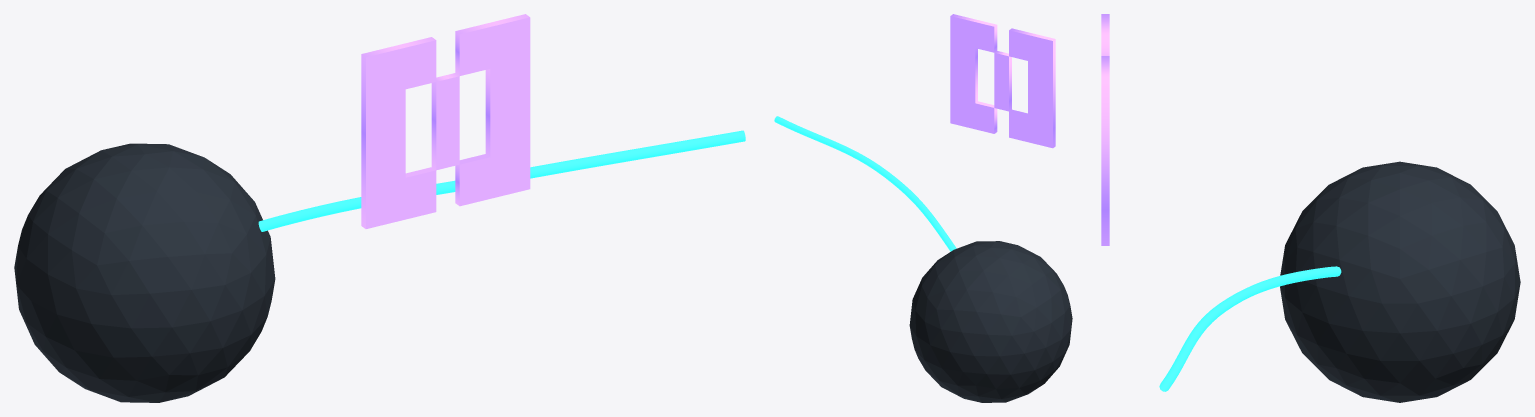
Rendered from NEXLABS_CP06_LOW_v001.glb.
The picture shows the model from 3 angles, left to right: view 1: azimuth 30°, elevation 25°; view 2: azimuth 150°, elevation 25°; view 3: azimuth 270°, elevation 25°; orthographic projection. The views are drawn at different scales.
Visible parts, largest first — view 1: NL_CORE_Context_A_LOW, NL_LOGO_NX_C_02_R1_LOW, NL_ROUTE_Primary_01_LOW; view 2: NL_CORE_Context_A_LOW, NL_LOGO_NX_C_02_R1_LOW, NL_ROUTE_Primary_01_LOW; view 3: NL_CORE_Context_A_LOW, NL_ROUTE_Primary_01_LOW, NL_LOGO_NX_C_02_R1_LOW.
Part boxes in pixels (x1,y1,x2,y2): NL_CORE_Context_A_LOW: [14, 143, 275, 402]; NL_LOGO_NX_C_02_R1_LOW: [361, 14, 530, 228]; NL_ROUTE_Primary_01_LOW: [258, 130, 745, 231]; NL_CORE_Context_A_LOW: [909, 241, 1072, 402]; NL_LOGO_NX_C_02_R1_LOW: [950, 14, 1055, 148]; NL_ROUTE_Primary_01_LOW: [774, 116, 956, 251]; NL_CORE_Context_A_LOW: [1280, 161, 1520, 402]; NL_ROUTE_Primary_01_LOW: [1159, 266, 1341, 391]; NL_LOGO_NX_C_02_R1_LOW: [1101, 14, 1109, 245].
Size of the model in its own units: 4.23 by 3.03 by 2.85.
